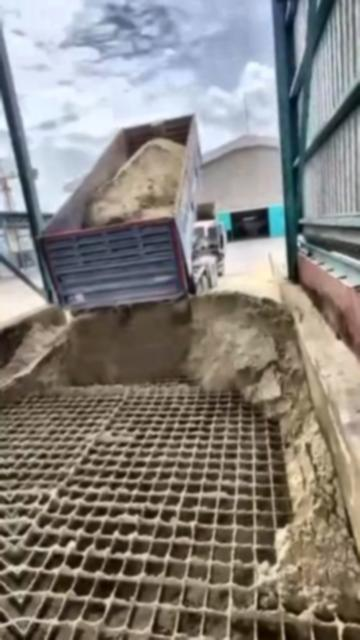sand: (7, 292, 359, 620), (83, 139, 185, 226), (0, 324, 60, 393)
